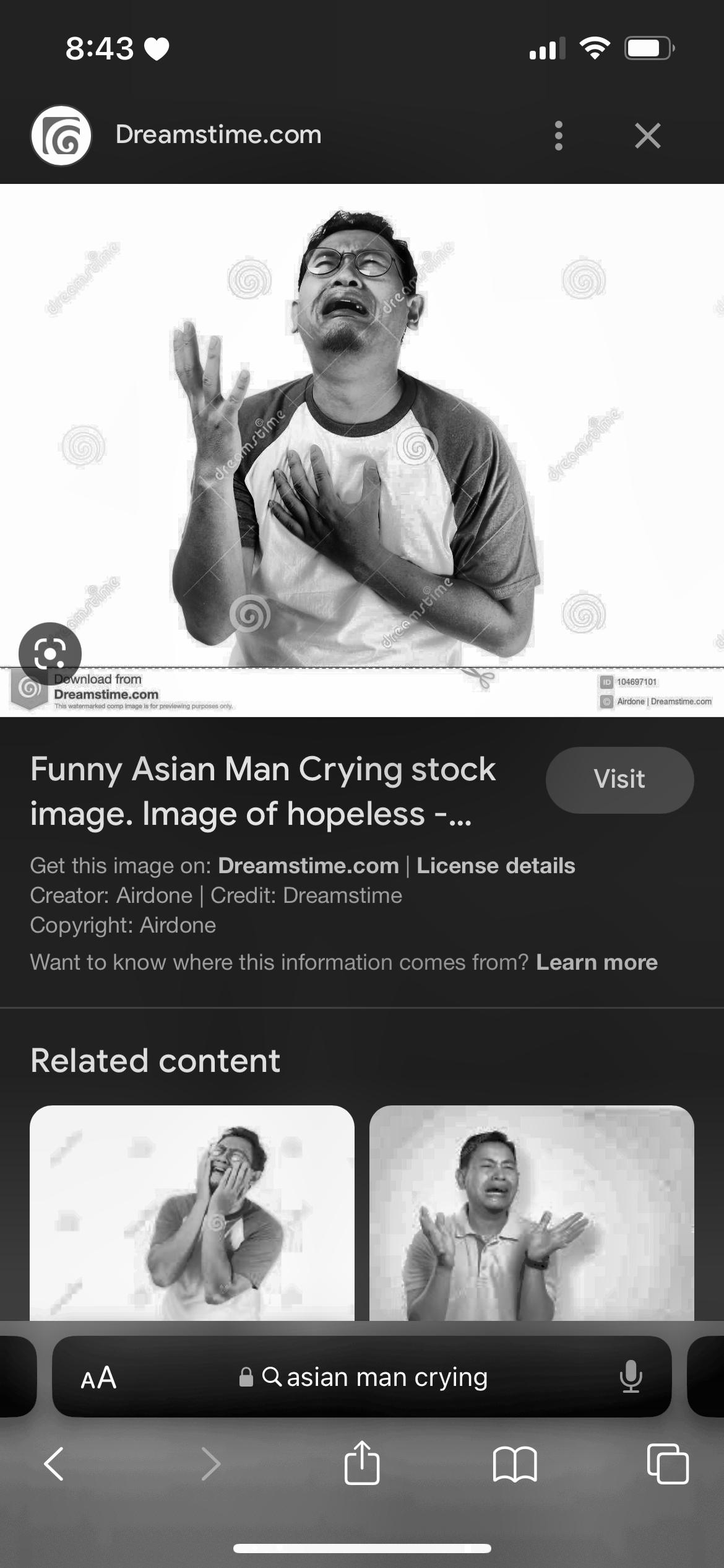sad: (260, 254, 415, 394)
